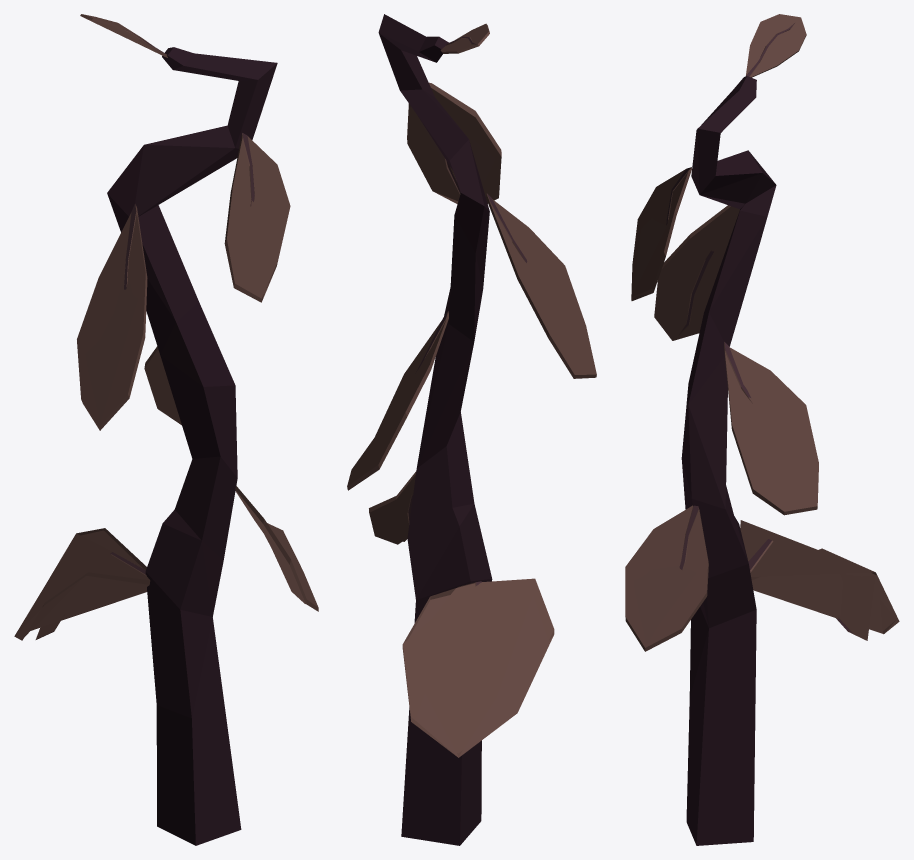
Rendered from dead.fbx.
The picture shows the model from 3 angles, left to right: view 1: azimuth 30°, elevation 25°; view 2: azimuth 150°, elevation 25°; view 3: azimuth 270°, elevation 25°; orthographic projection. The views are drawn at different scales.
Visible parts, largest first — view 1: dead; view 2: dead; view 3: dead.
Part boxes in pixels (x1,y1,x2,y2): dead: [14, 14, 318, 845]; dead: [347, 14, 596, 845]; dead: [625, 14, 899, 845].
Size of the model in its own units: 28.1 by 100 by 31.79.
